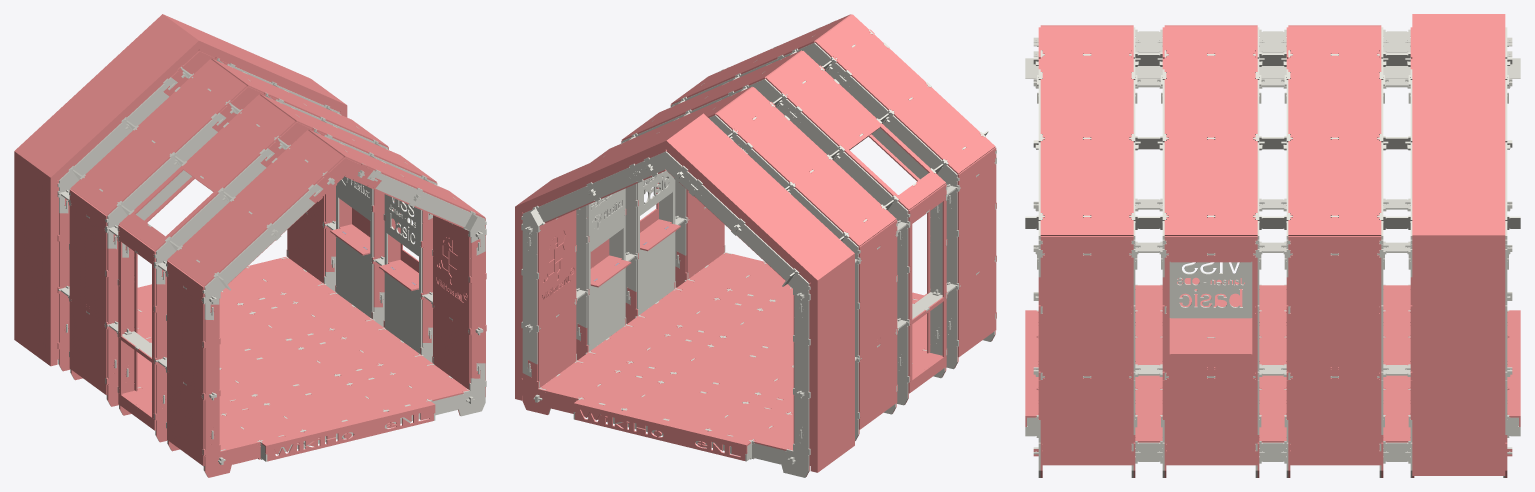
Rendered from WHNL-WIKISTAND2014.glb.
3 renders of one model, left to right at view 1: azimuth 30°, elevation 25°; view 2: azimuth 150°, elevation 25°; view 3: azimuth 270°, elevation 25°, orthographic. The views are drawn at different scales.
Visible parts, largest first — view 1: mesh_0_ROOT__Component_168680_Layer0, mesh_1164_ROOT__Component_40745_Layer0, mesh_996_ROOT__panels900__Component_40745_Layer0, mesh_1167_ROOT__Component_156635_Layer0, mesh_997_ROOT__panels900__Component_311_Layer0, mesh_1148_ROOT__Component_166842_Layer0, mesh_716_ROOT__Component_179498_Layer0, mesh_1135_ROOT__Component_168912_Layer0, mesh_558_ROOT__Component_179498_Layer0, mesh_994_ROOT__panels900__Component_2143_Layer0, mesh_1134_ROOT__Component_168912_Layer0, mesh_1149_ROOT__Component_82490_Panels_213_211_194_ds (+37 smaller); view 2: mesh_0_ROOT__Component_168680_Layer0, mesh_1164_ROOT__Component_40745_Layer0, mesh_996_ROOT__panels900__Component_40745_Layer0, mesh_997_ROOT__panels900__Component_311_Layer0, mesh_1167_ROOT__Component_156635_Layer0, mesh_1148_ROOT__Component_166842_Layer0, mesh_152_ROOT__panels900__Component_2143_Layer0, mesh_558_ROOT__Component_179498_Layer0, mesh_332_ROOT__Component_168912_Layer0, mesh_716_ROOT__Component_179498_Layer0, mesh_331_ROOT__Component_168912_Layer0, mesh_1161_ROOT__Component_98339_Panels_213_211_194_ds (+33 smaller); view 3: mesh_0_ROOT__Component_168680_Layer0, mesh_993_ROOT__panels900__Component_311_Layer0, mesh_1155_ROOT__Component_156635_Layer0, mesh_1142_ROOT__Component_40745_Layer0, mesh_1156_ROOT__Component_40745_Layer0, mesh_992_ROOT__panels900__Component_40745_Layer0, mesh_1141_ROOT__Component_182330_Layer0, mesh_557_ROOT__Component_171409_Layer0, mesh_1149_ROOT__Component_82490_Panels_213_211_194_ds, mesh_1153_ROOT__Component_179498_Layer0, mesh_558_ROOT__Component_179498_Layer0, mesh_716_ROOT__Component_179498_Layer0 (+22 smaller).
Part boxes in pixels (box(x1,y1,x2,y2)): mesh_0_ROOT__Component_168680_Layer0: box(14, 14, 347, 366); mesh_1164_ROOT__Component_40745_Layer0: box(70, 59, 247, 215); mesh_996_ROOT__panels900__Component_40745_Layer0: box(167, 130, 344, 286); mesh_1167_ROOT__Component_156635_Layer0: box(69, 189, 107, 394); mesh_997_ROOT__panels900__Component_311_Layer0: box(167, 260, 204, 466); mesh_1148_ROOT__Component_166842_Layer0: box(119, 94, 295, 251); mesh_716_ROOT__Component_179498_Layer0: box(254, 323, 426, 389); mesh_1135_ROOT__Component_168912_Layer0: box(302, 359, 467, 426); mesh_558_ROOT__Component_179498_Layer0: box(219, 288, 377, 353); mesh_994_ROOT__panels900__Component_2143_Layer0: box(433, 215, 470, 389); mesh_1134_ROOT__Component_168912_Layer0: box(219, 390, 350, 451); mesh_1149_ROOT__Component_82490_Panels_213_211_194_ds: box(384, 194, 422, 354); mesh_0_ROOT__Component_168680_Layer0: box(515, 113, 854, 472); mesh_1164_ROOT__Component_40745_Layer0: box(716, 87, 896, 246); mesh_996_ROOT__panels900__Component_40745_Layer0: box(815, 14, 995, 174); mesh_997_ROOT__panels900__Component_311_Layer0: box(957, 147, 996, 357); mesh_1167_ROOT__Component_156635_Layer0: box(858, 220, 897, 429); mesh_1148_ROOT__Component_166842_Layer0: box(765, 51, 945, 210); mesh_152_ROOT__panels900__Component_2143_Layer0: box(537, 210, 576, 387); mesh_558_ROOT__Component_179498_Layer0: box(582, 320, 758, 387); mesh_332_ROOT__Component_168912_Layer0: box(541, 357, 708, 425); mesh_716_ROOT__Component_179498_Layer0: box(632, 284, 793, 351); mesh_331_ROOT__Component_168912_Layer0: box(660, 388, 793, 450); mesh_1161_ROOT__Component_98339_Panels_213_211_194_ds: box(587, 188, 625, 351); mesh_0_ROOT__Component_168680_Layer0: box(1412, 14, 1505, 475); mesh_993_ROOT__panels900__Component_311_Layer0: box(1040, 236, 1133, 465); mesh_1155_ROOT__Component_156635_Layer0: box(1288, 236, 1381, 465); mesh_1142_ROOT__Component_40745_Layer0: box(1164, 26, 1257, 235); mesh_1156_ROOT__Component_40745_Layer0: box(1288, 26, 1381, 235); mesh_992_ROOT__panels900__Component_40745_Layer0: box(1040, 26, 1133, 235); mesh_1141_ROOT__Component_182330_Layer0: box(1164, 236, 1257, 465); mesh_557_ROOT__Component_171409_Layer0: box(1149, 277, 1272, 362); mesh_1149_ROOT__Component_82490_Panels_213_211_194_ds: box(1166, 261, 1255, 379); mesh_1153_ROOT__Component_179498_Layer0: box(1273, 285, 1396, 362); mesh_558_ROOT__Component_179498_Layer0: box(1273, 363, 1396, 442); mesh_716_ROOT__Component_179498_Layer0: box(1149, 363, 1272, 442).
Size of the model in its own units: 4236 by 4049 by 4800.
